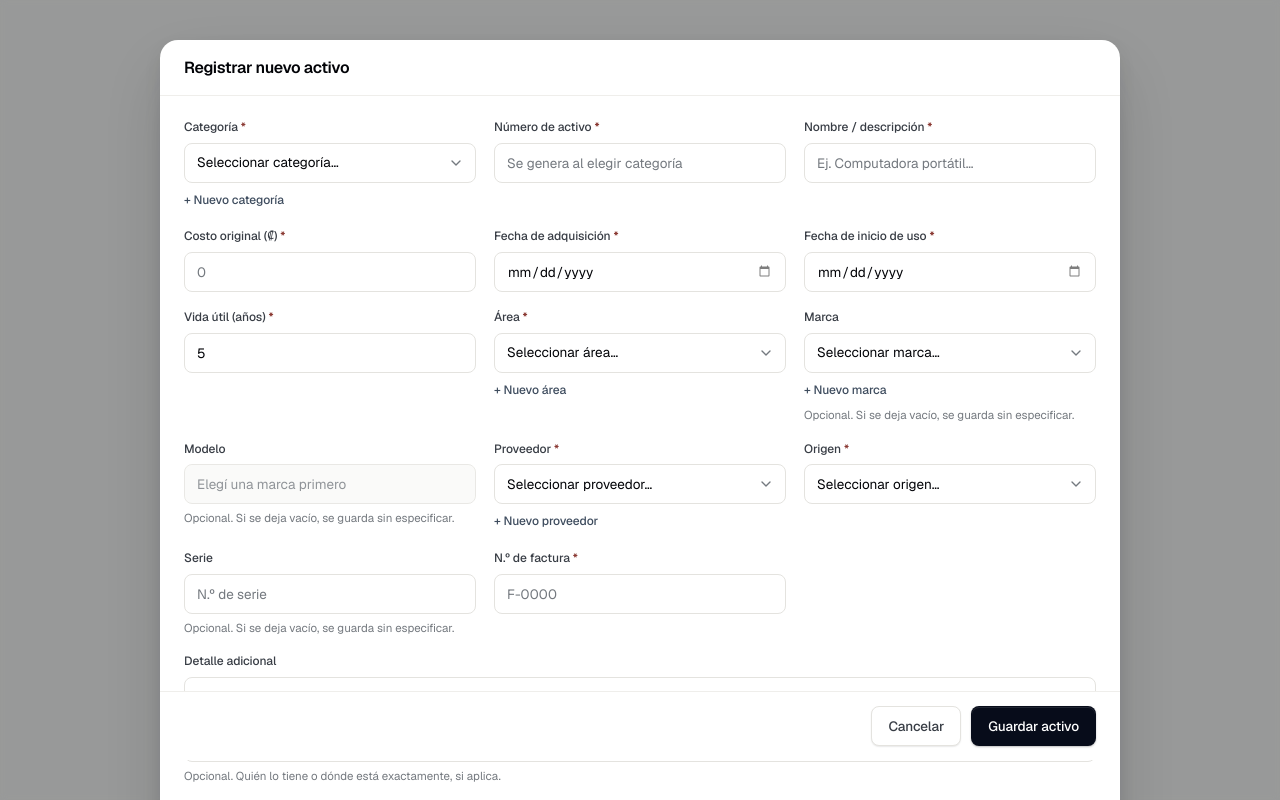
Test: CrearActivoModal › al elegir categoría solo autocompleta el prefijo, no el número completo
The image size is (1280, 800).
Select "Software" in the dropdown named "Categoría": (330, 163) [184,143,476,183]
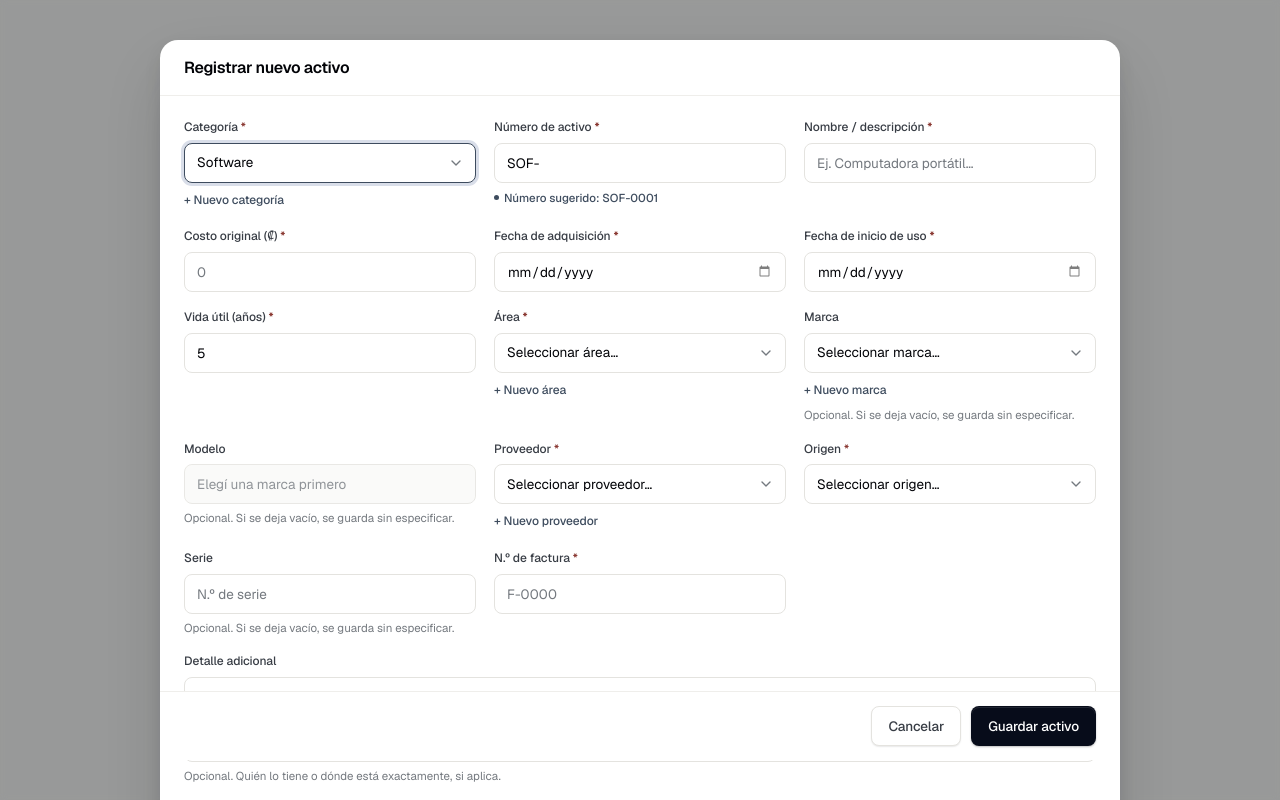
Expected: the field with placeholder "Se genera al elegir categoría" holds "SOF-"
Expected: the text "Número sugerido: SOF-0001" is shown, [504,190,658,205]
In the field with placeholder "Se genera al elegir categoría": (640, 163) [494,143,786,183], type "0002"
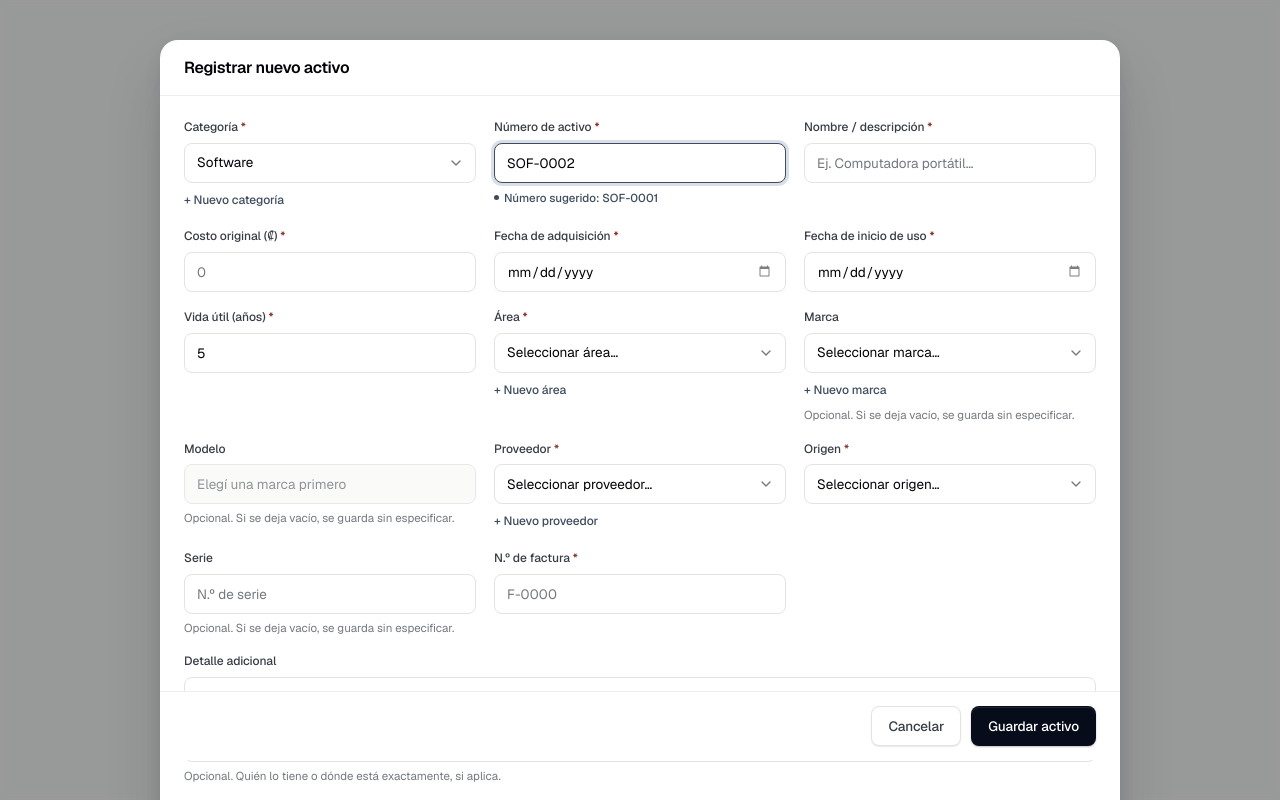
Expected: the field with placeholder "Se genera al elegir categoría" holds "SOF-0002", [494,143,786,183]
